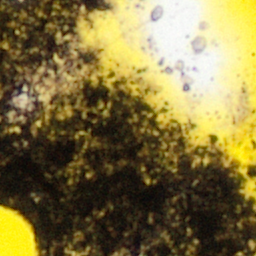air_pores: (0, 205, 38, 255)
cement_matrix: (0, 0, 255, 255), (14, 89, 33, 110), (249, 166, 255, 177)
cracks: (31, 0, 255, 204)
gravel_crushed_stones: (117, 0, 240, 115), (15, 90, 32, 109)
